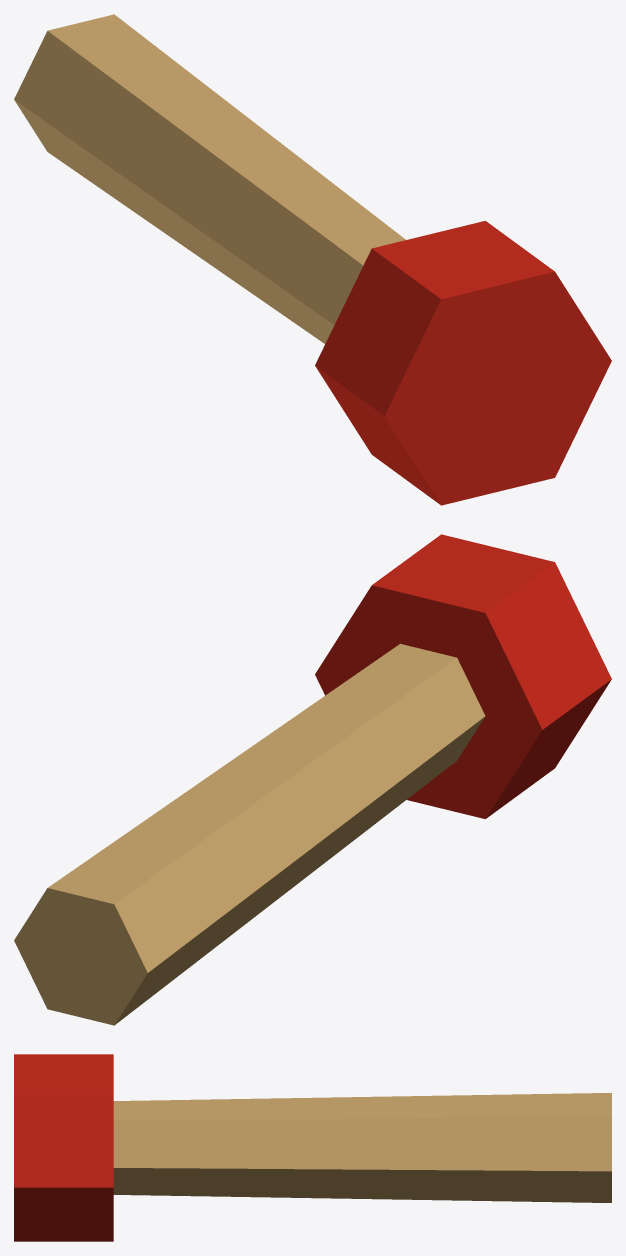
The model's file is Prop_Census_Peg_LOD1.glb.
The picture shows the model from 3 angles, top to bottom: view 1: azimuth 30°, elevation 25°; view 2: azimuth 150°, elevation 25°; view 3: azimuth 270°, elevation 25°; orthographic projection. The views are drawn at different scales.
Parts seen in each view (by area): view 1: Prop_Census_Peg; view 2: Prop_Census_Peg; view 3: Prop_Census_Peg.
Boxes of the visible parts, left/top/right/bottom form: Prop_Census_Peg: left=14, top=14, right=611, bottom=505; Prop_Census_Peg: left=14, top=534, right=611, bottom=1025; Prop_Census_Peg: left=14, top=1054, right=611, bottom=1241.
Size of the model in its own units: 0.034 by 0.0294 by 0.108.
